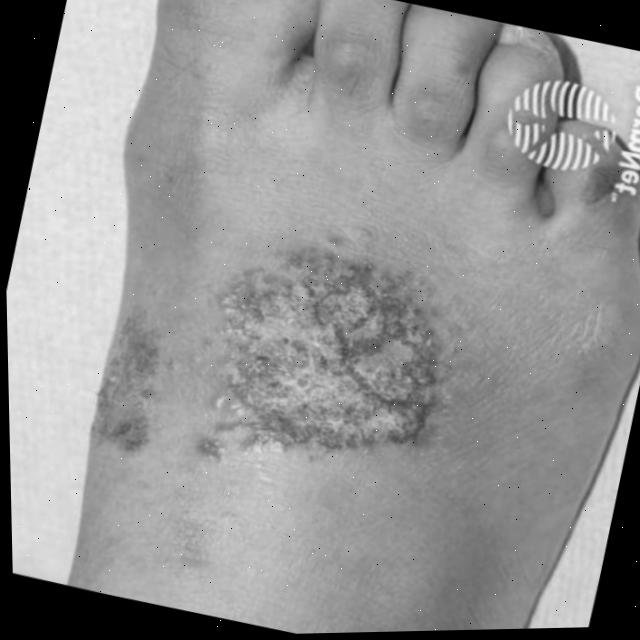Eczema: (202, 232, 440, 475), (74, 343, 187, 453)
